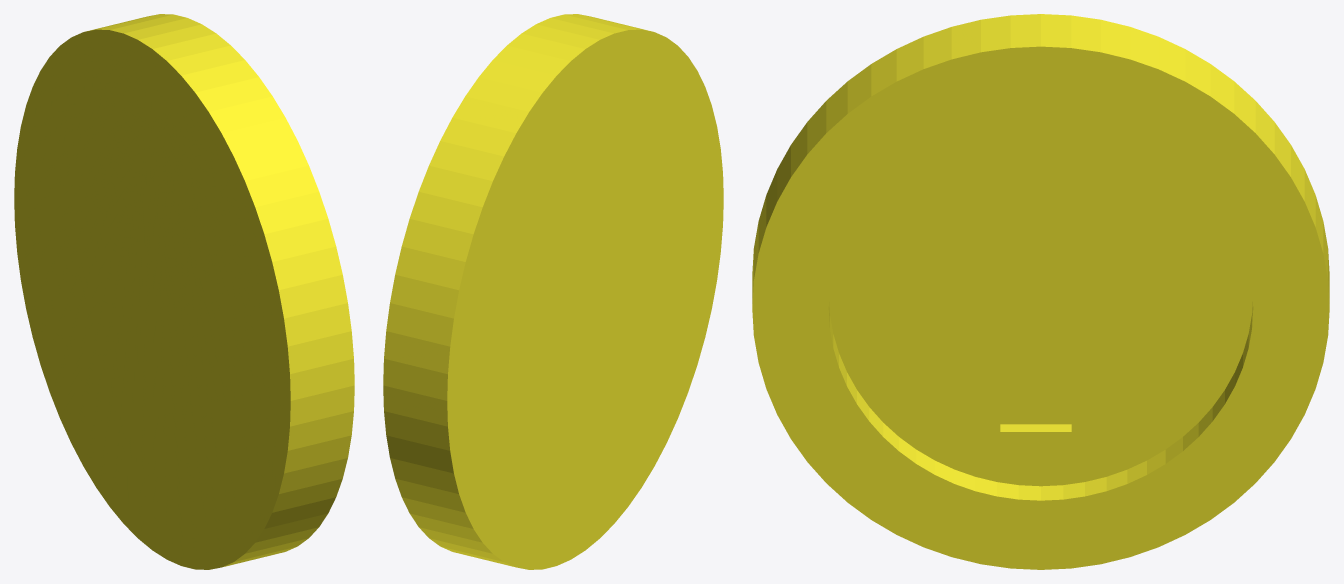
The model's file is OBJ_Coin.fbx.
3 renders of one model, left to right at view 1: azimuth 30°, elevation 25°; view 2: azimuth 150°, elevation 25°; view 3: azimuth 270°, elevation 25°, orthographic. The views are drawn at different scales.
Visible parts, largest first — view 1: Cylinder.003; view 2: Cylinder.003; view 3: Cylinder.003.
Boxes of the visible parts, bbox=[...] form: Cylinder.003: bbox=[14, 14, 354, 569]; Cylinder.003: bbox=[383, 14, 723, 569]; Cylinder.003: bbox=[752, 14, 1329, 569].
Bounding box in the file's own units: 27.48 × 206 × 206.
